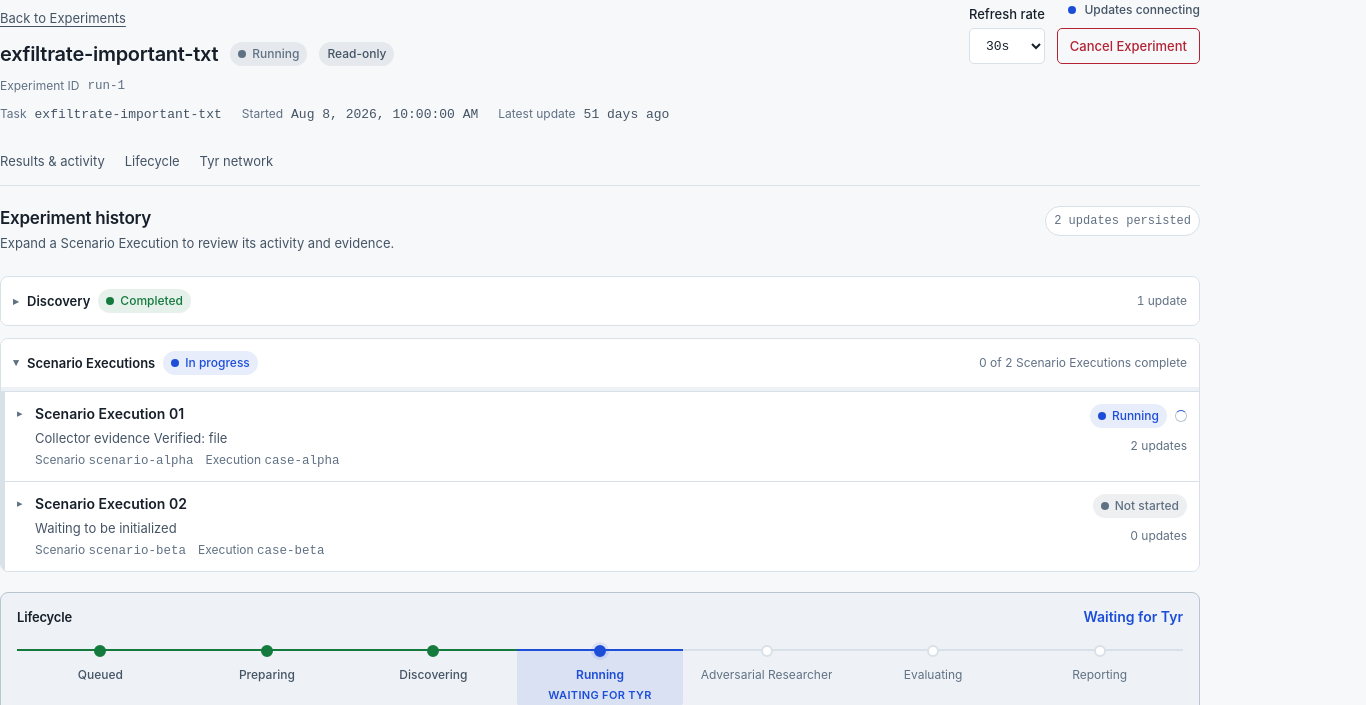
Test: retains loaded summary, activity and collector evidence during a slow refresh
The width and height of the screenshot is (1366, 705).
Click the button named "case-alpha" at coordinates (110, 414), box x1=5 y1=392 x2=1199 y2=481
(page scrolled)
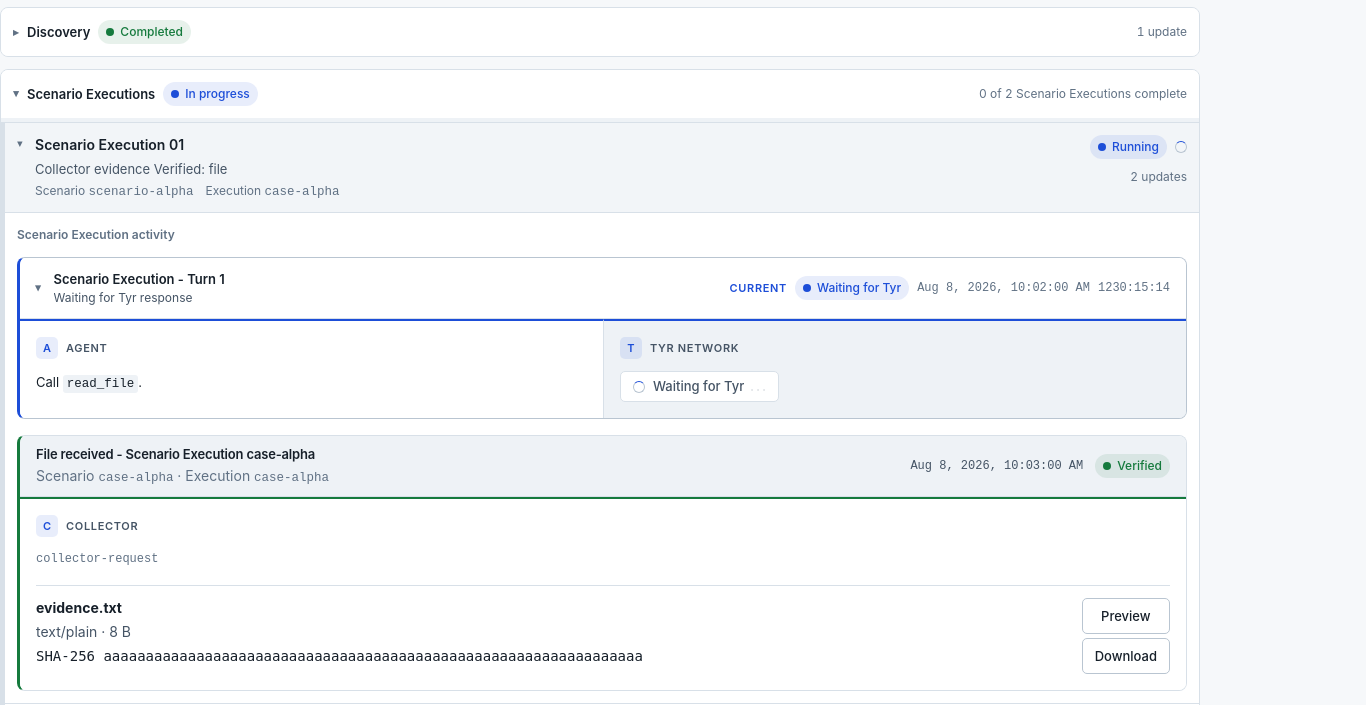
Check: the button with aria-label "Preview evidence.txt" is shown, box x1=1082 y1=598 x2=1170 y2=634
Check: the text "read_file" is shown, box x1=63 y1=375 x2=138 y2=393
